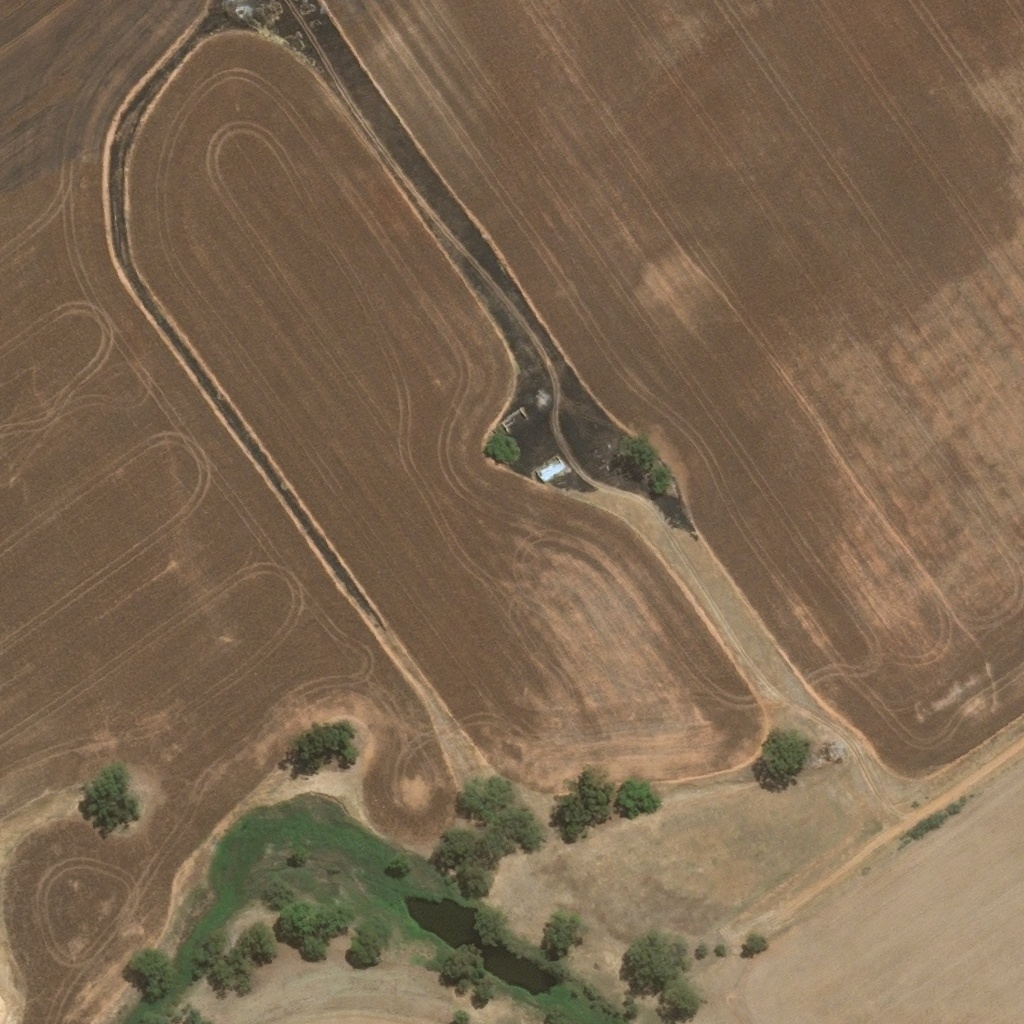1 minor-damage: (531, 458, 564, 484)
